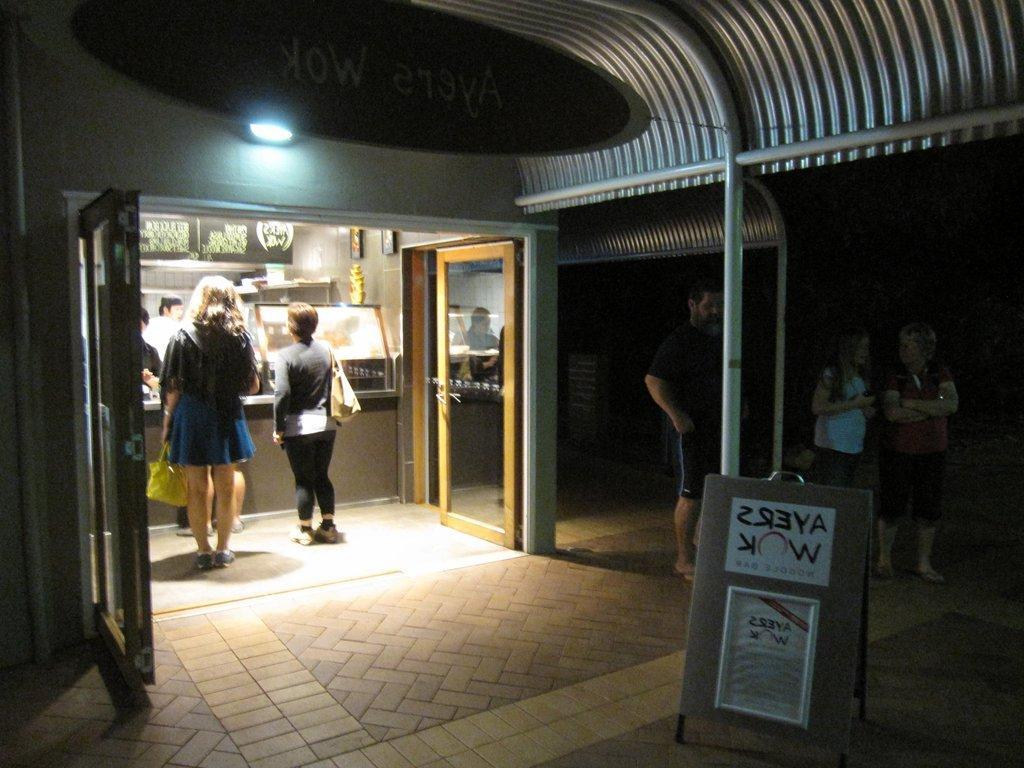door: (90, 208, 136, 677), (450, 239, 514, 507)
